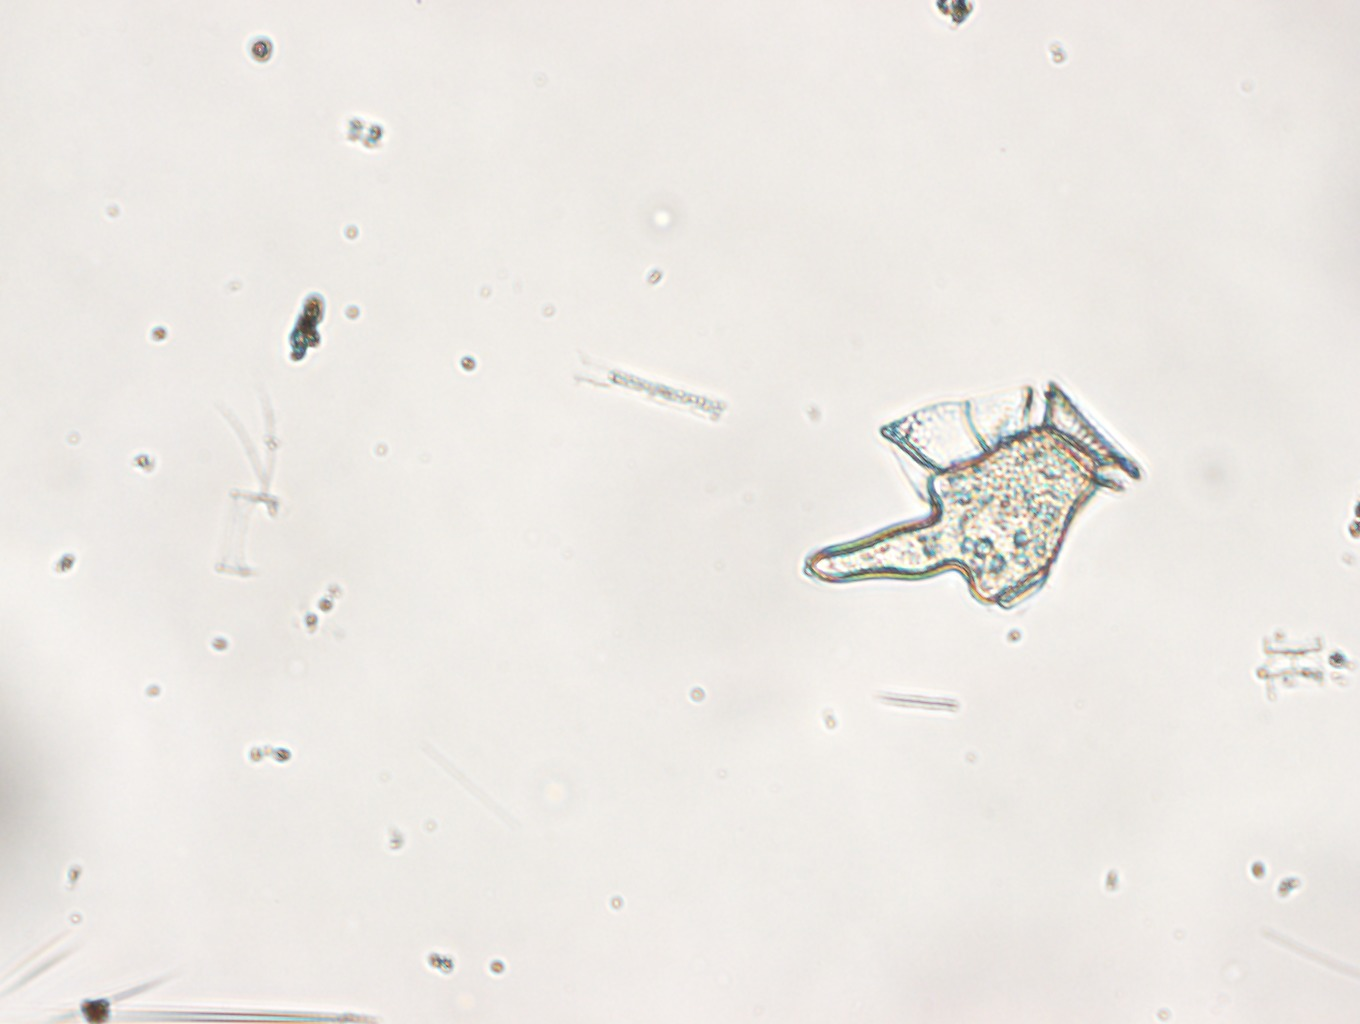dinophysis caudata: (793, 388, 1153, 625)
